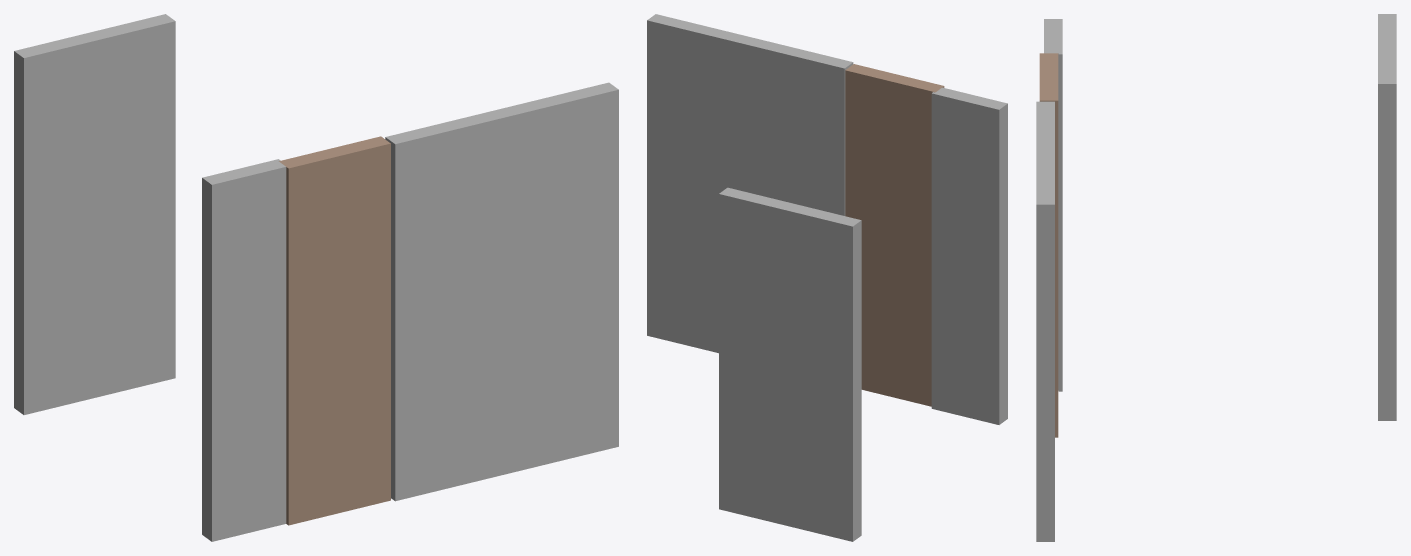
File: job_10.glb
The picture shows the model from 3 angles, left to right: view 1: azimuth 30°, elevation 25°; view 2: azimuth 150°, elevation 25°; view 3: azimuth 270°, elevation 25°; orthographic projection. The views are drawn at different scales.
Visible parts, largest first — view 1: walls, door_0; view 2: walls, door_0; view 3: walls, door_0.
Part boxes in pixels (x1,y1,x2,y2): walls: (14, 14, 618, 541); door_0: (279, 136, 390, 525); walls: (647, 14, 1007, 541); door_0: (845, 64, 944, 406); walls: (1036, 14, 1396, 541); door_0: (1039, 53, 1058, 437).
Size of the model in its own units: 3.64 by 3 by 2.91.
